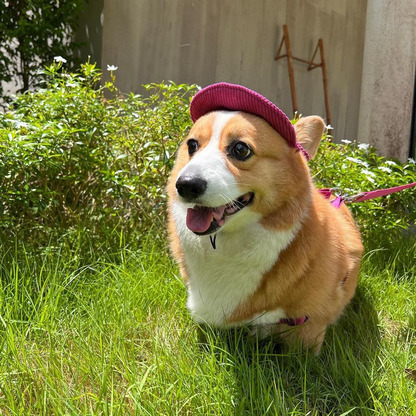Corgi: (170, 99, 370, 353)
